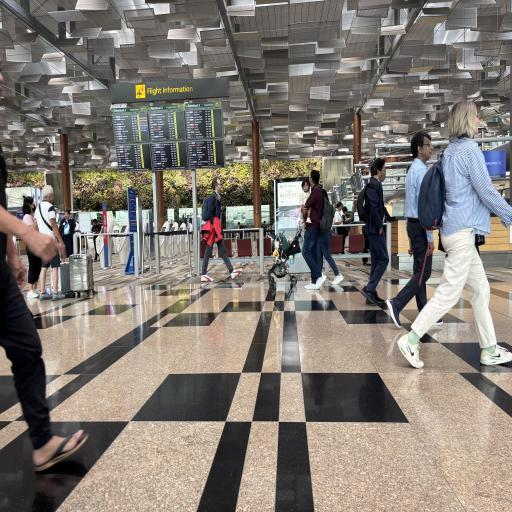person_right: (425, 84, 512, 378), (352, 148, 390, 311), (201, 167, 245, 289)
